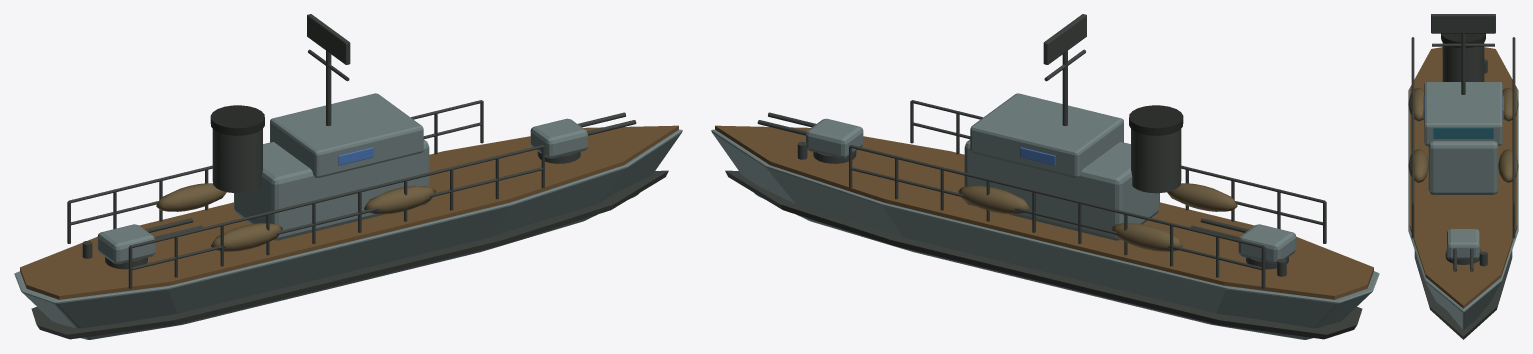
The model's file is destroyer.glb.
The picture shows the model from 3 angles, left to right: view 1: azimuth 30°, elevation 25°; view 2: azimuth 150°, elevation 25°; view 3: azimuth 270°, elevation 25°; orthographic projection. The views are drawn at different scales.
Visible parts, largest first — view 1: NavalPaint, Timber, Steel, Canvas, Tracks; view 2: NavalPaint, Timber, Steel, Canvas, Tracks; view 3: Timber, NavalPaint, Steel, Canvas, Optics, Tracks.
Part boxes in pixels (left/top/right/bottom): NavalPaint: left=14, top=93, right=682, bottom=339; Timber: left=20, top=125, right=678, bottom=299; Steel: left=31, top=14, right=668, bottom=339; Canvas: left=156, top=183, right=436, bottom=251; Tracks: left=210, top=105, right=264, bottom=135; NavalPaint: left=711, top=93, right=1379, bottom=339; Timber: left=715, top=125, right=1373, bottom=299; Steel: left=725, top=14, right=1362, bottom=339; Canvas: left=957, top=183, right=1237, bottom=251; Tracks: left=1129, top=105, right=1183, bottom=135; Timber: left=1409, top=47, right=1517, bottom=308; NavalPaint: left=1408, top=82, right=1518, bottom=329; Steel: left=1411, top=14, right=1515, bottom=339; Canvas: left=1408, top=87, right=1518, bottom=182; Optics: left=1433, top=128, right=1493, bottom=138; Tracks: left=1441, top=33, right=1485, bottom=48.
Size of the model in its own units: 10.93 by 3.83 by 1.92.
